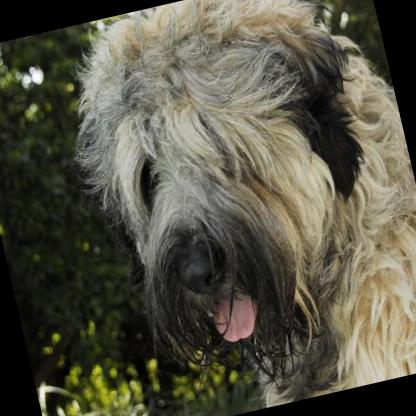briard: (43, 0, 416, 416)
